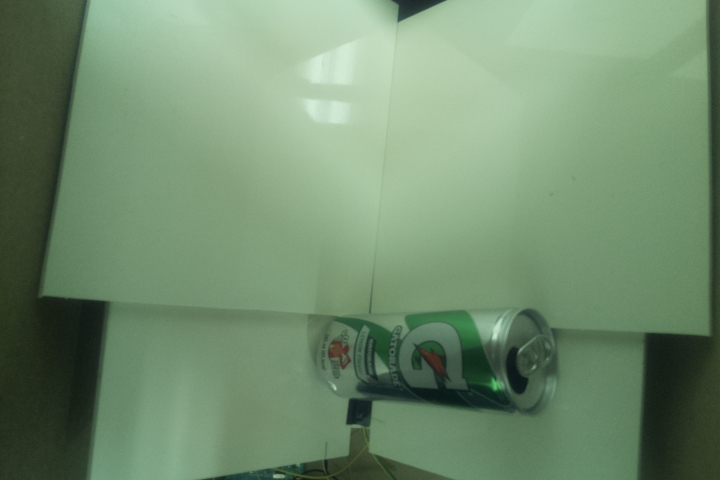can: (312, 305, 560, 415)
